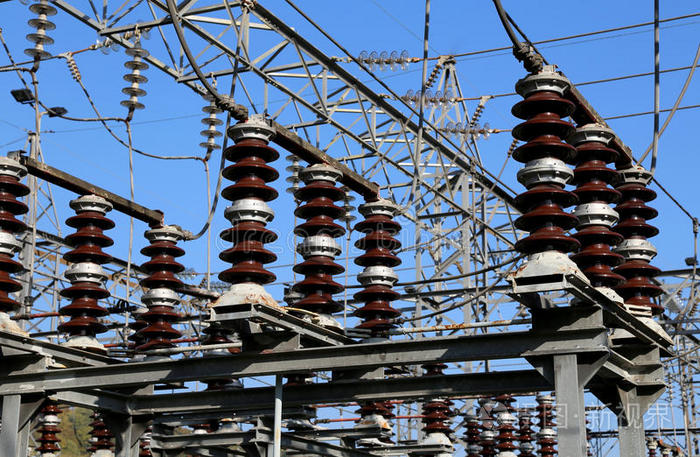insulator: (119, 46, 153, 114), (23, 3, 61, 59), (198, 91, 226, 154), (354, 48, 413, 71), (445, 120, 496, 143), (404, 88, 456, 110), (340, 184, 360, 225), (283, 152, 301, 194)
